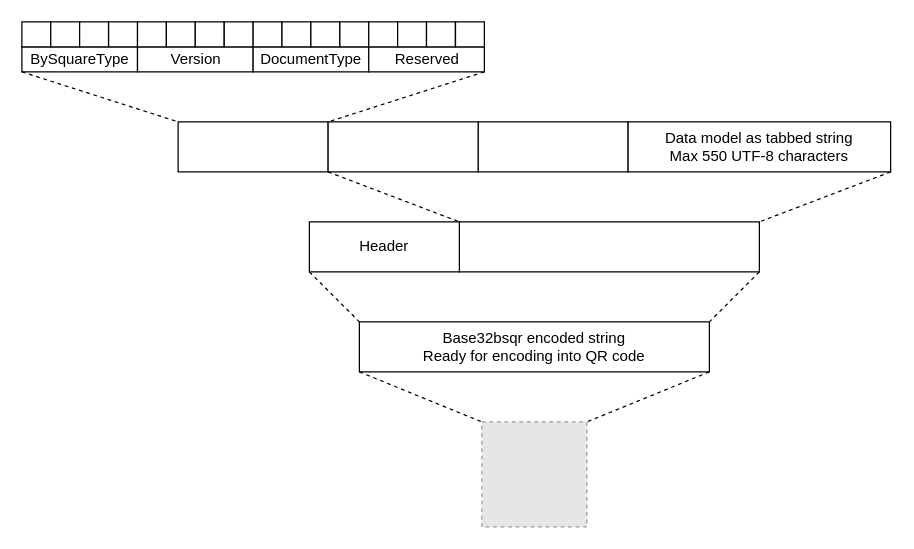
Some shapes in this 914 by 549 pixel diagram are drawn without their labels. Grey dashed boxes stand in for pictures. The shapes that lost their labels are listed below. From the top down, each one's centre as x and y in pixels, then its label:
the point at 252,146: Header bysquare (2 bytes)
the point at 402,146: Header data length (2 bytes) Int16LE
the point at 552,146: CRC32 (4 bytes)
the point at 608,246: Value sequence compressed by LZMA
